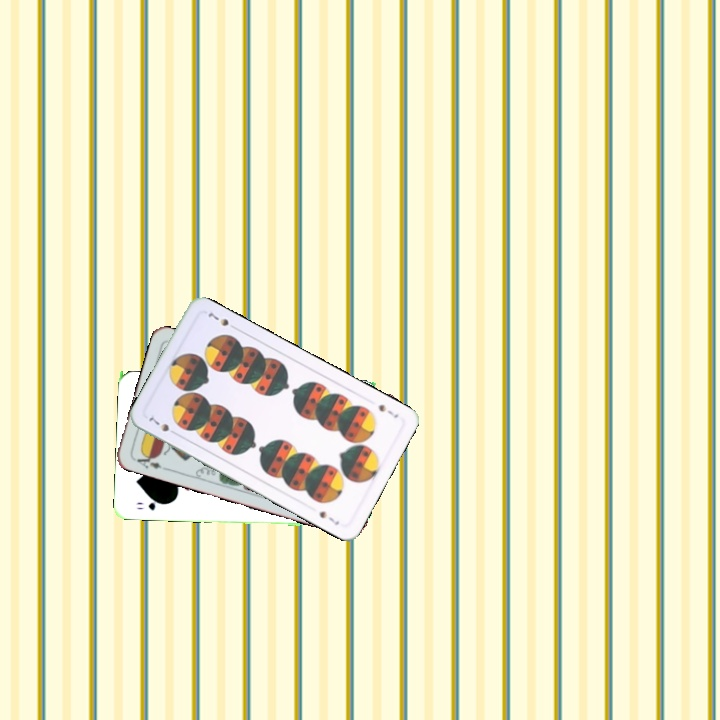EA: (130, 449, 164, 472)
GO: (132, 496, 169, 513)
S7: (144, 413, 180, 438), (374, 400, 401, 421)
